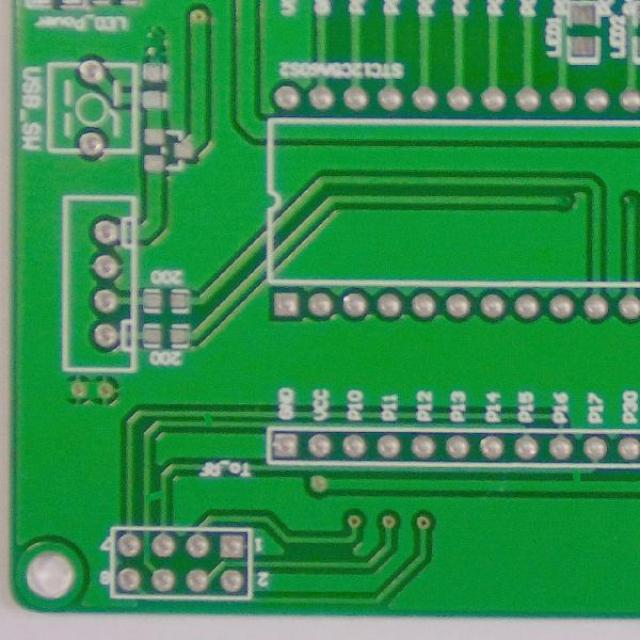Short_Circuit: (562, 462, 592, 494), (138, 482, 172, 509), (195, 406, 220, 431)
